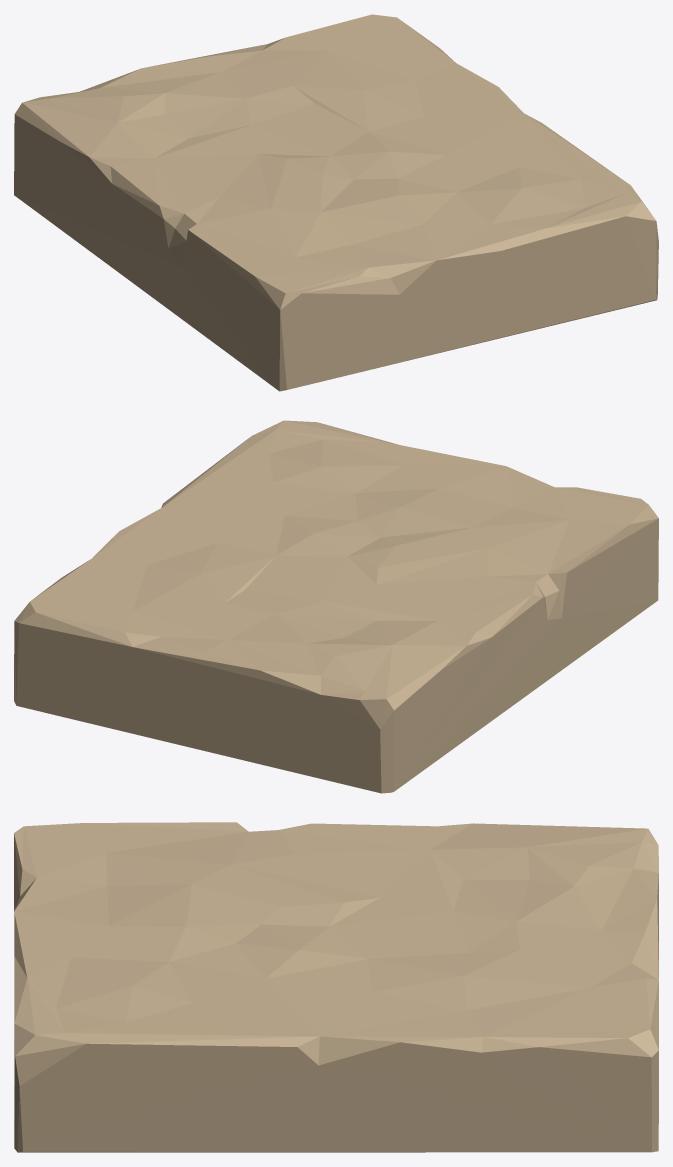
File: SM_platform_stone.fbx
The picture shows the model from 3 angles, top to bottom: view 1: azimuth 30°, elevation 25°; view 2: azimuth 150°, elevation 25°; view 3: azimuth 270°, elevation 25°; orthographic projection. The views are drawn at different scales.
Visible parts, largest first — view 1: platform_stone; view 2: platform_stone; view 3: platform_stone.
Boxes of the visible parts, <box> form: platform_stone: <box>14,14,658,391</box>; platform_stone: <box>14,420,658,793</box>; platform_stone: <box>14,822,658,1152</box>.
Bounding box in the file's own units: 400 × 99.92 × 496.
